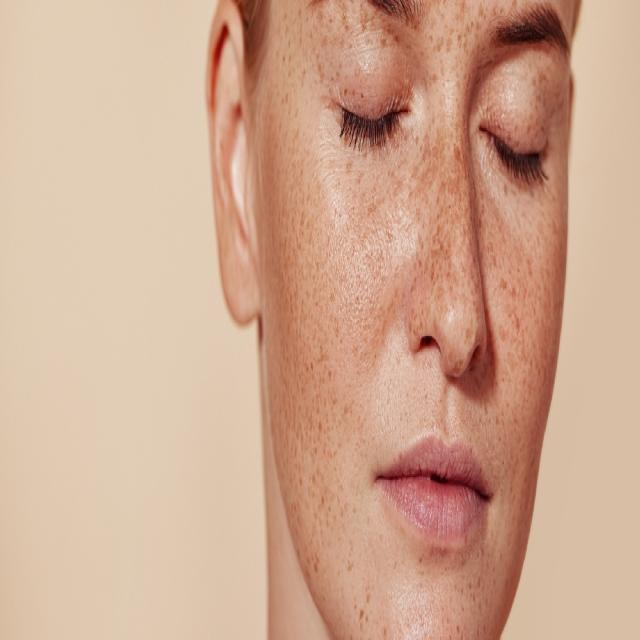pigmentation: (419, 120, 484, 327)
